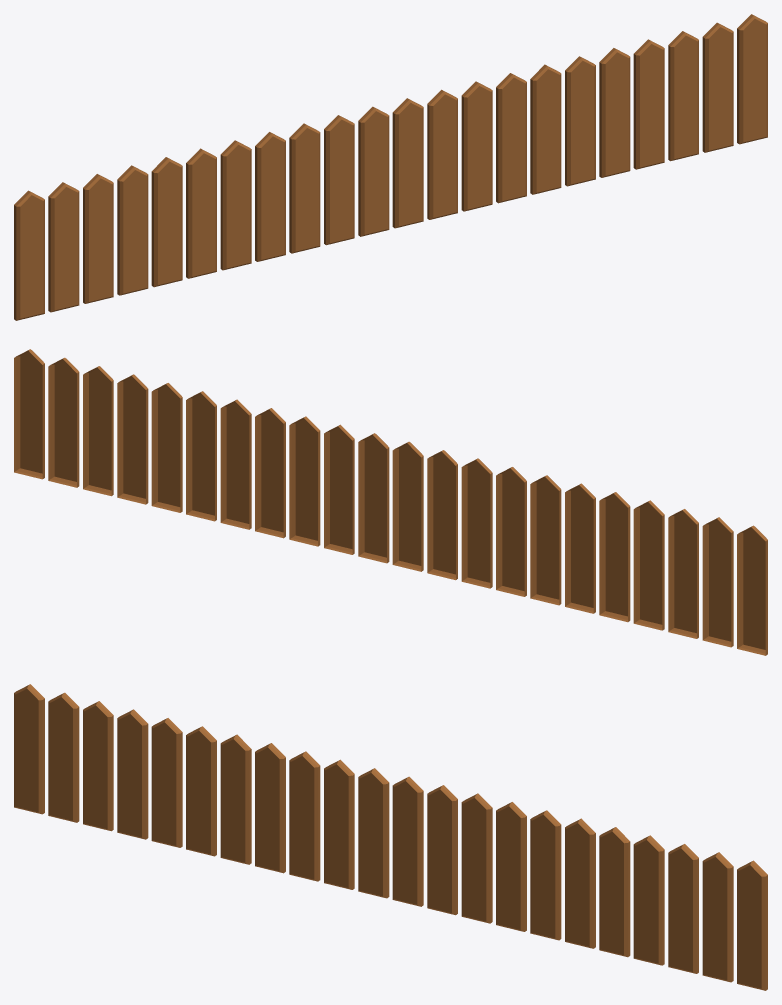
Rendered from Woodplanks.fbx.
The picture shows the model from 3 angles, top to bottom: view 1: azimuth 30°, elevation 25°; view 2: azimuth 150°, elevation 25°; view 3: azimuth 330°, elevation 25°; orthographic projection.
Visible parts, largest first — view 1: Woodplanks; view 2: Woodplanks; view 3: Woodplanks.
Boxes of the visible parts, x1,y1,x2,y2 form: Woodplanks: [14, 14, 767, 320]; Woodplanks: [14, 349, 767, 655]; Woodplanks: [14, 684, 767, 990].
Size of the model in its own units: 30.06 by 4.79 by 0.2437.
